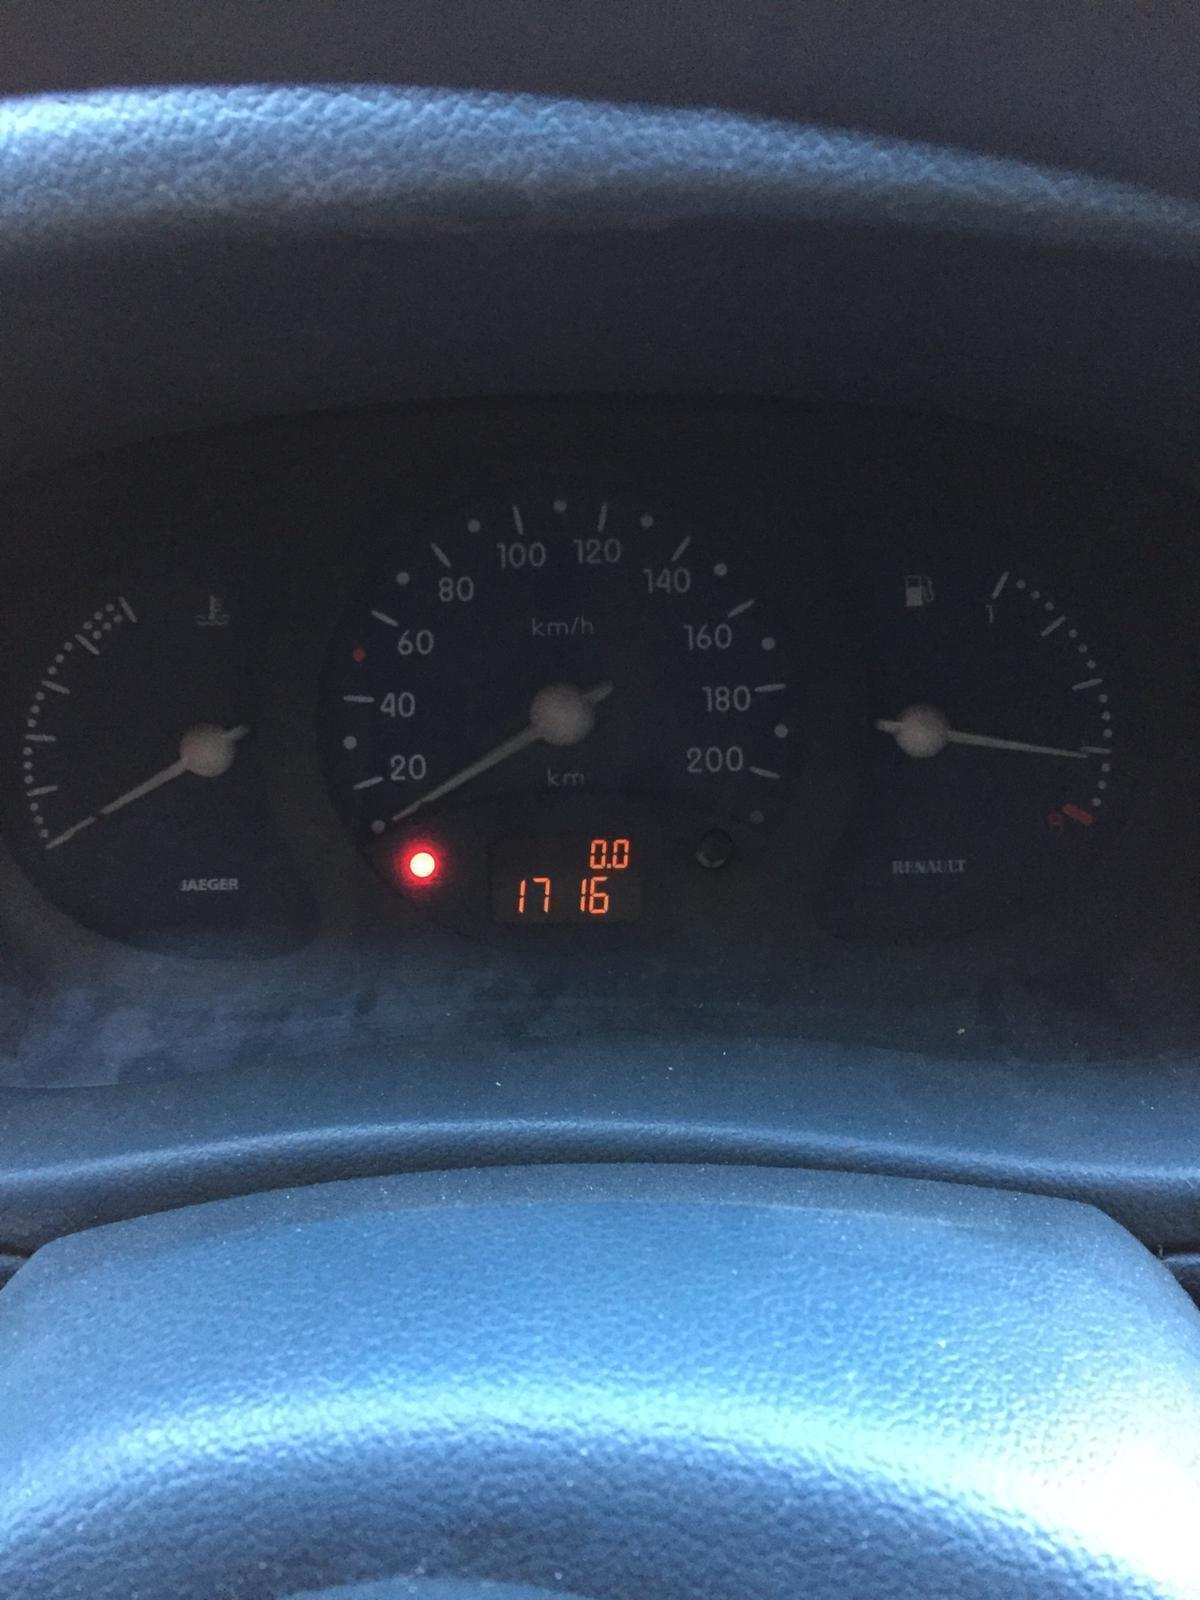,: (606, 863, 611, 869)
0: (589, 839, 608, 869), (611, 839, 629, 868)
1: (517, 879, 526, 913), (579, 878, 586, 912)
6: (587, 876, 609, 913)
7: (529, 876, 550, 913)
odometer: (484, 826, 649, 927)
